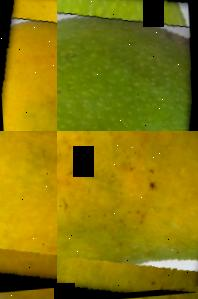PartiallyRipe: (57, 131, 198, 299), (0, 0, 57, 131)
Ripe: (0, 131, 57, 286)
Unripe: (57, 0, 198, 131)
